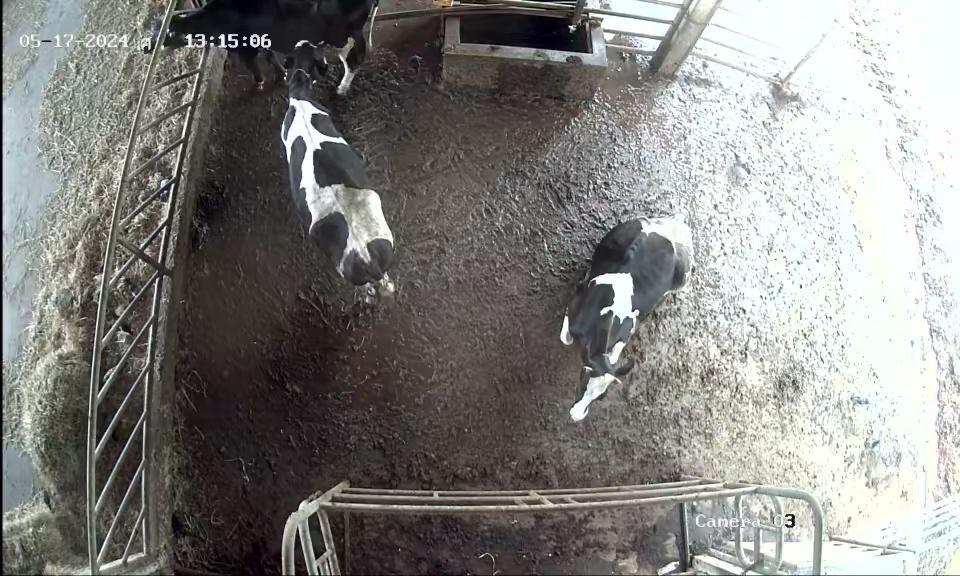eat: (118, 5, 228, 63)
lay: (530, 181, 709, 433)
stand: (270, 32, 412, 309)
